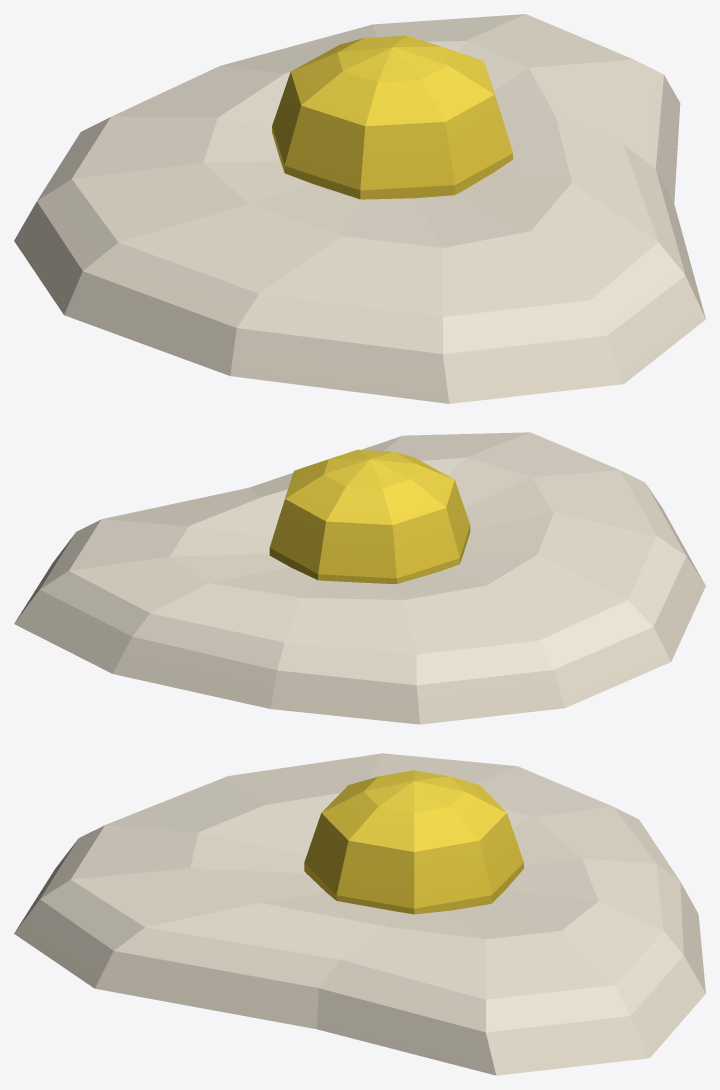
File: egg_5.glb
3 views of the same model, one above another, from view 1: azimuth 30°, elevation 25°; view 2: azimuth 150°, elevation 25°; view 3: azimuth 270°, elevation 25° (orthographic). The views are drawn at different scales.
Parts seen in each view (by area): view 1: egg_5; view 2: egg_5; view 3: egg_5.
Part boxes in pixels (left/top/right/bottom): egg_5: left=14, top=14, right=705, bottom=403; egg_5: left=14, top=432, right=705, bottom=724; egg_5: left=14, top=753, right=705, bottom=1075.
Size of the model in its own units: 0.1136 by 0.0274 by 0.1138.
Materials: 1 (1 with a texture image).
